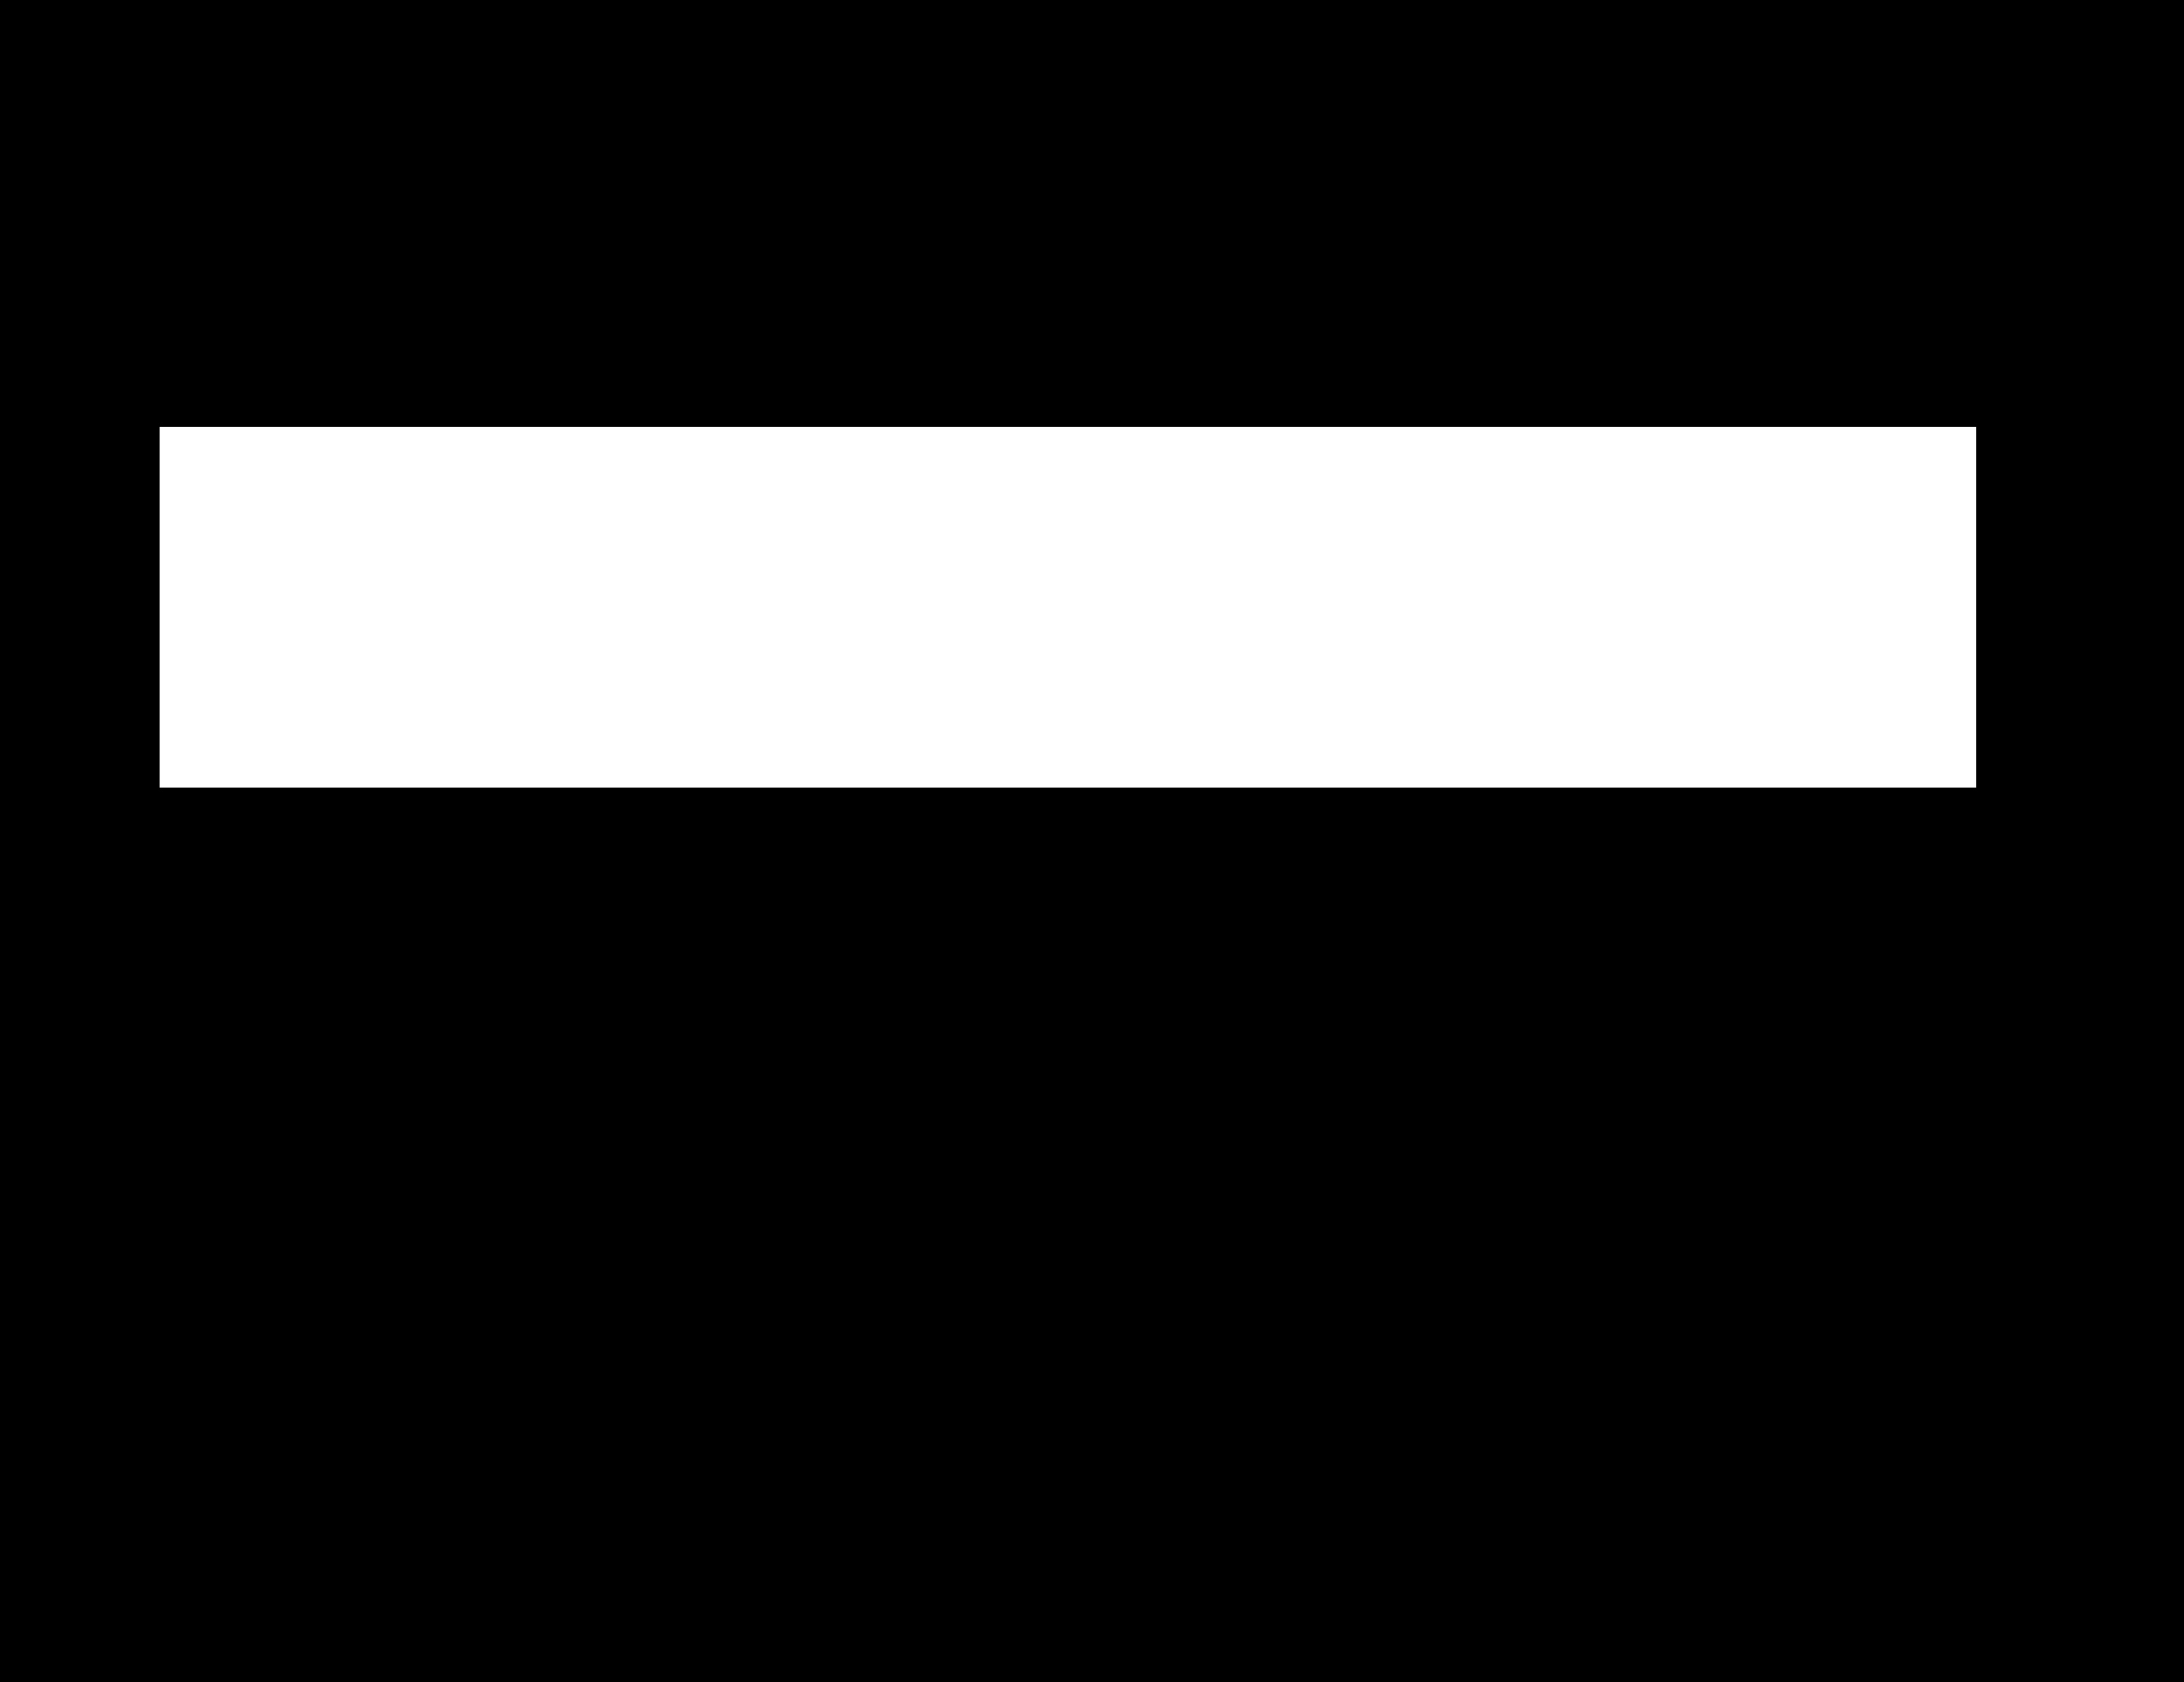table: (159, 428, 1976, 786)
